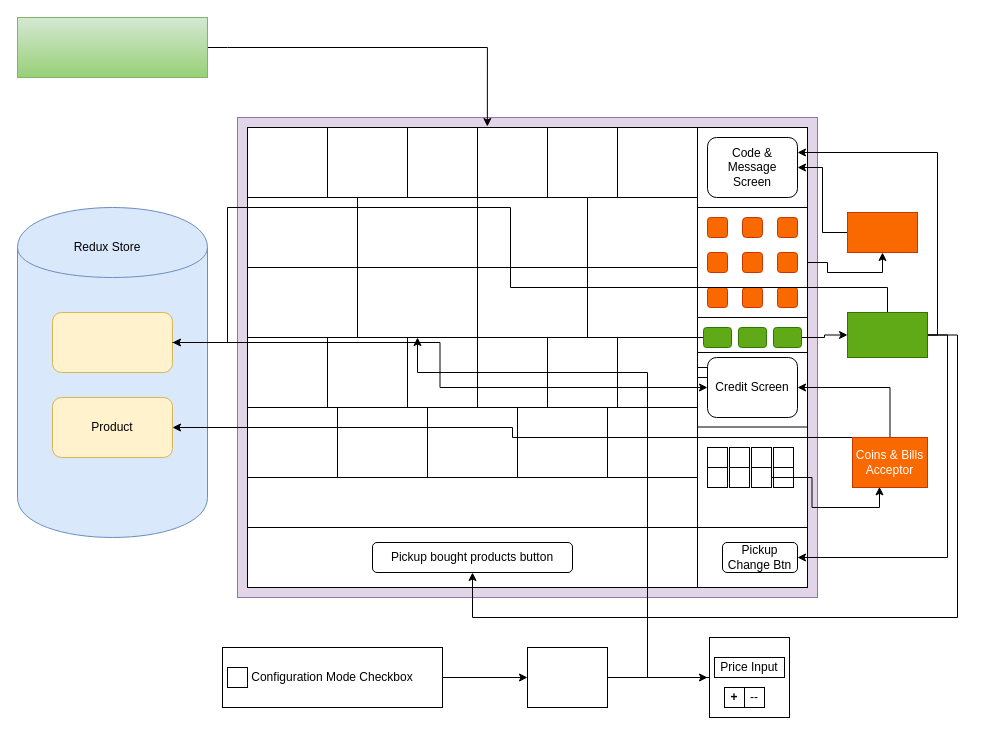
This 983x735 diagram has some shape labels left out. Here are the shapes that lost their labels. From the top down, the centre of each, then its label:
At point (112, 47): "Product Grid".
At point (882, 232): "Numerical KeyPad".
At point (112, 342): "Credit".
At point (887, 335): "Change / Cancel / Pay Buttons".
At point (567, 677): "Activates Admin Mode for each Product".
